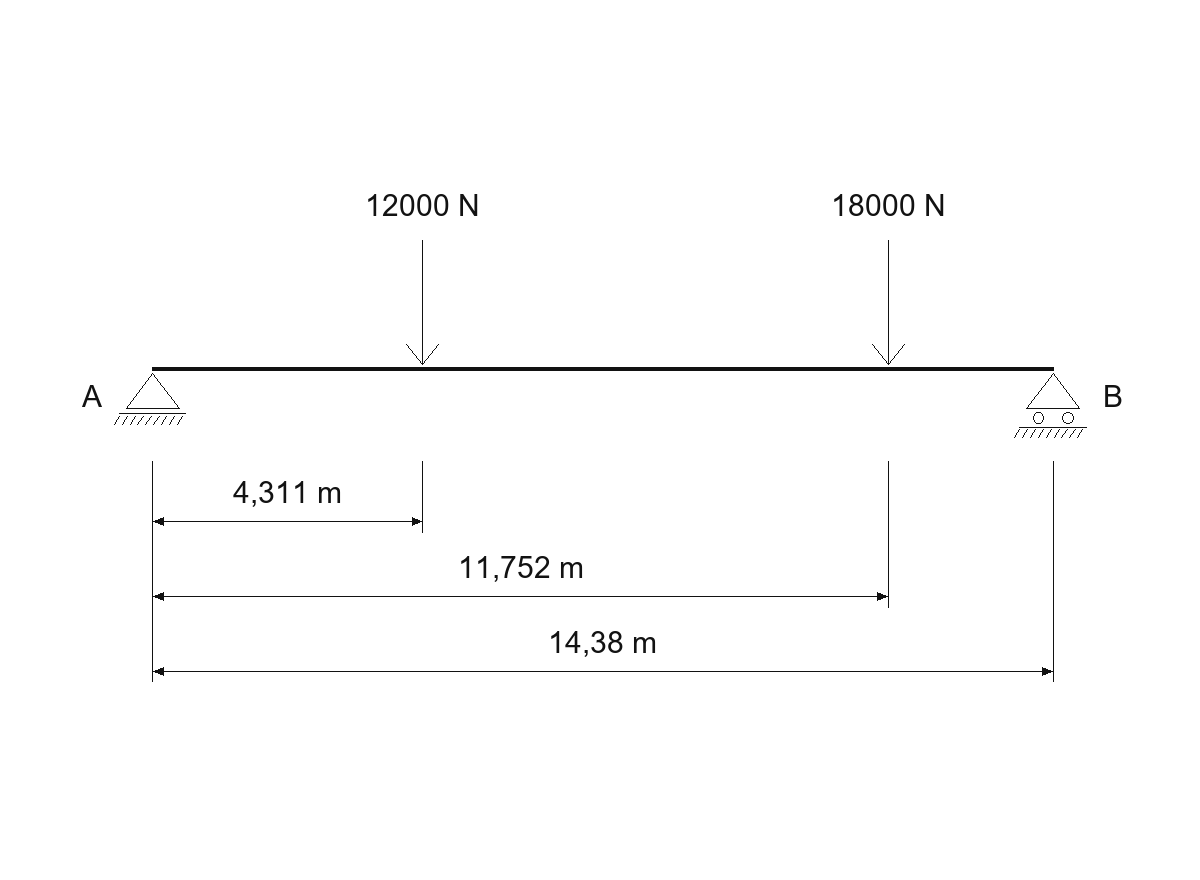pin_support: (114, 373, 186, 425)
point_load: (406, 240, 439, 365), (872, 240, 905, 365)
roller_support: (1014, 373, 1087, 438)
